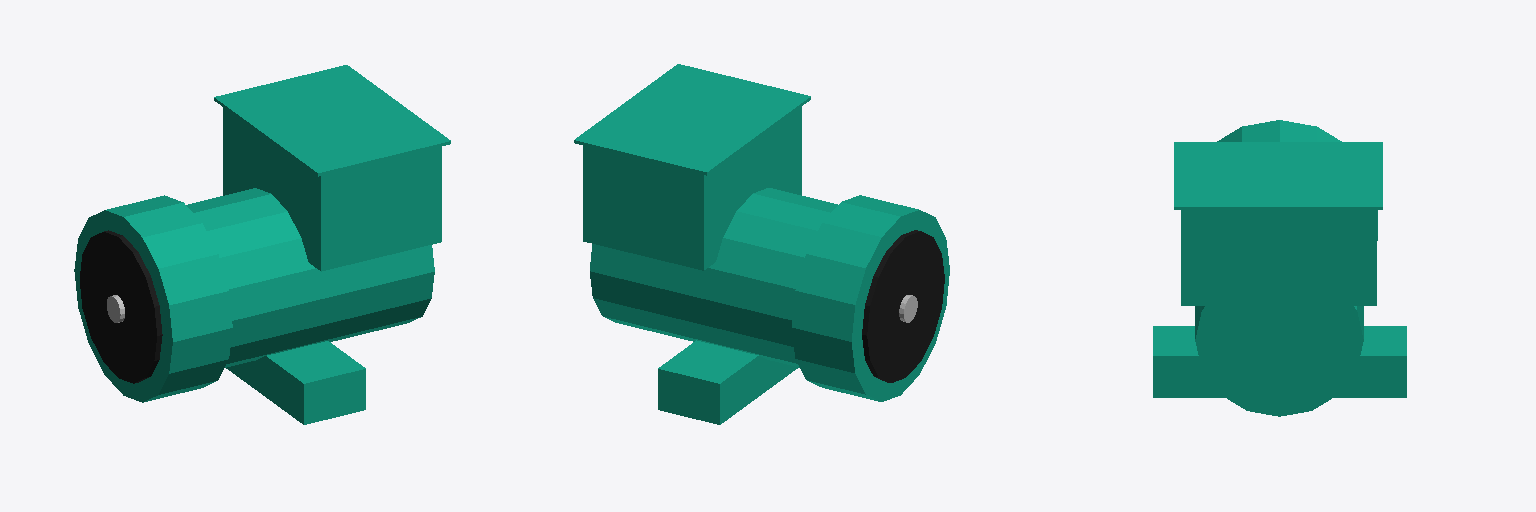
File: LSA47.obj
The picture shows the model from 3 angles: view 1: azimuth 30°, elevation 25°; view 2: azimuth 150°, elevation 25°; view 3: azimuth 270°, elevation 25°; orthographic projection.
Parts seen in each view (by area): view 1: Cylinder01, Box01, Cylinder02, Box02, Cylinder03, Box03; view 2: Cylinder01, Box01, Cylinder02, Box02, Cylinder03, Box03; view 3: Box01, Cylinder01, Box02, Box03, Cylinder02.
Boxes of the visible parts, box(x1,y1,x2,y2) form: Cylinder01: box(186, 188, 434, 367); Box01: box(223, 107, 441, 271); Cylinder02: box(74, 195, 232, 402); Box02: box(214, 65, 450, 176); Cylinder03: box(80, 230, 162, 383); Box03: box(226, 341, 365, 424); Cylinder01: box(590, 188, 837, 367); Box01: box(583, 107, 801, 270); Cylinder02: box(792, 195, 949, 401); Box02: box(574, 64, 810, 175); Cylinder03: box(862, 230, 944, 382); Box03: box(658, 340, 798, 424); Box01: box(1181, 210, 1376, 305); Cylinder01: box(1195, 306, 1363, 416); Box02: box(1174, 142, 1382, 209); Box03: box(1153, 326, 1406, 397); Cylinder02: box(1217, 120, 1377, 240).
Size of the model in its own units: 67.19 by 53.5 by 51.9.